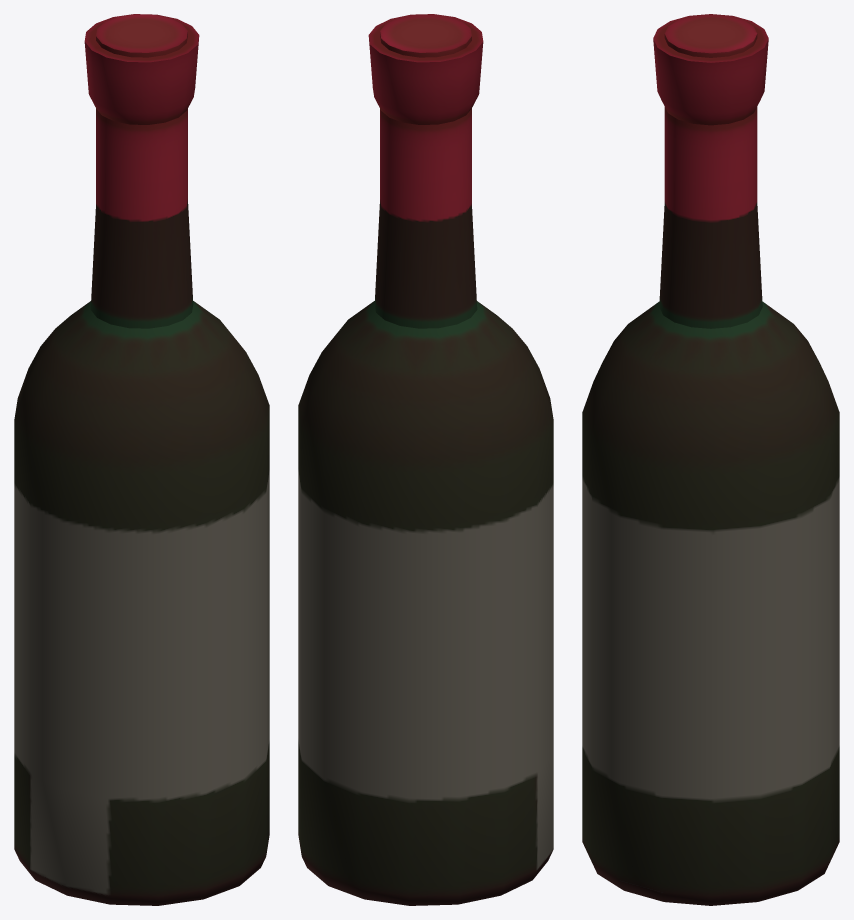
Rendered from wine.fbx.
The picture shows the model from 3 angles, left to right: view 1: azimuth 30°, elevation 25°; view 2: azimuth 150°, elevation 25°; view 3: azimuth 270°, elevation 25°; orthographic projection.
Parts seen in each view (by area): view 1: wine; view 2: wine; view 3: wine.
Part boxes in pixels (<box>): wine: <box>14,14,269,905</box>; wine: <box>298,14,553,905</box>; wine: <box>582,14,839,905</box>.
Bounding box in the file's own units: 0.5018 × 1.78 × 0.5018.
